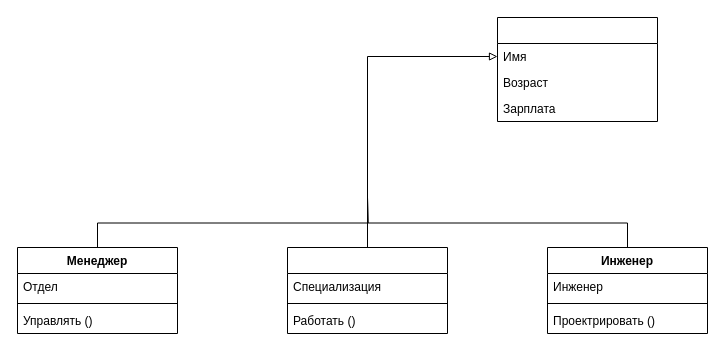
This 725x354 diagram has some shape labels left out. The box of each missing label's shape, as (x1, y1, x2, y2) in pixels:
Рабочий: (286, 246, 448, 334)
Сотрудник: (496, 16, 658, 122)
